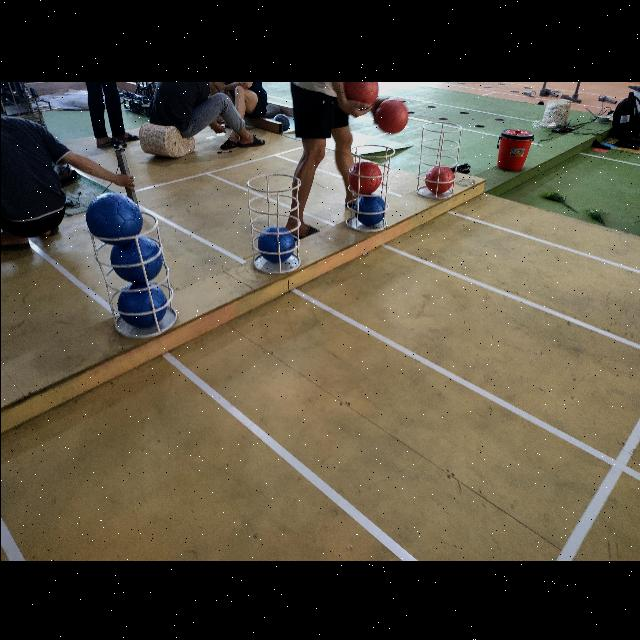B: (85, 192, 142, 242), (109, 236, 161, 282), (116, 282, 166, 326), (257, 223, 295, 260), (353, 194, 385, 223)
R: (346, 160, 380, 194), (424, 163, 454, 191)
